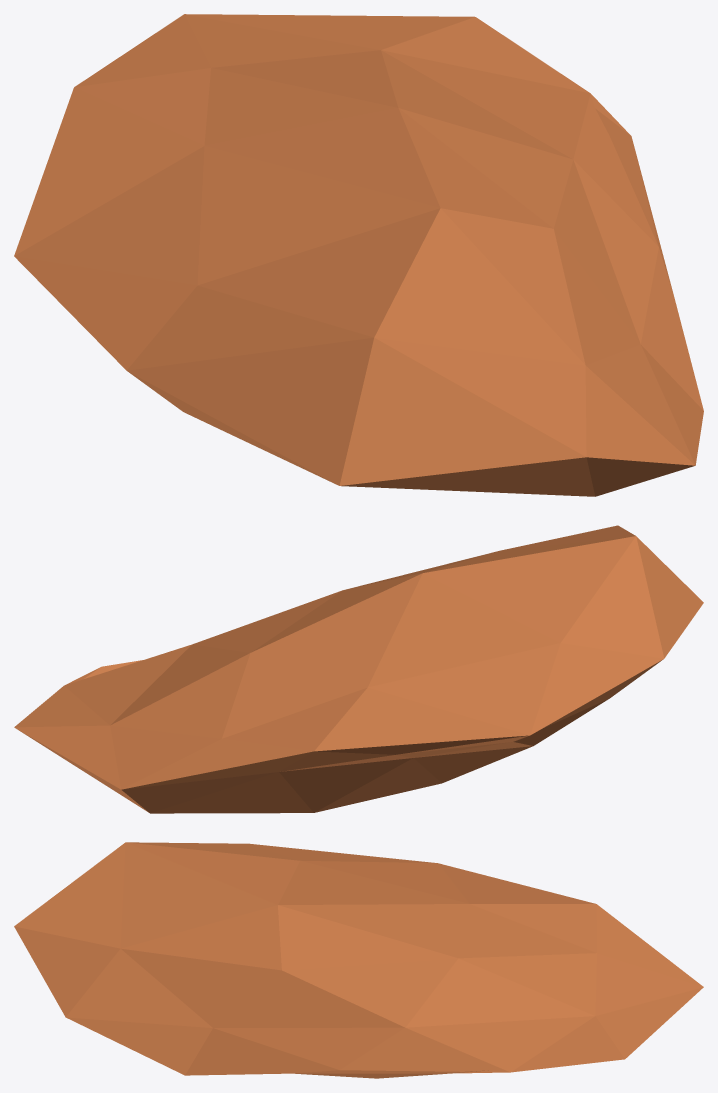
The model's file is Desert_Rock_Variation_3.fbx.
3 renders of one model, top to bottom at view 1: azimuth 30°, elevation 25°; view 2: azimuth 150°, elevation 25°; view 3: azimuth 270°, elevation 25°, orthographic. The views are drawn at different scales.
Visible parts, largest first — view 1: Desert Rock 4; view 2: Desert Rock 4; view 3: Desert Rock 4.
Part boxes in pixels (<box>): Desert Rock 4: <box>14,14,703,496</box>; Desert Rock 4: <box>14,525,703,813</box>; Desert Rock 4: <box>14,842,703,1078</box>.
Size of the model in its own units: 36.36 by 13.05 by 52.96.
